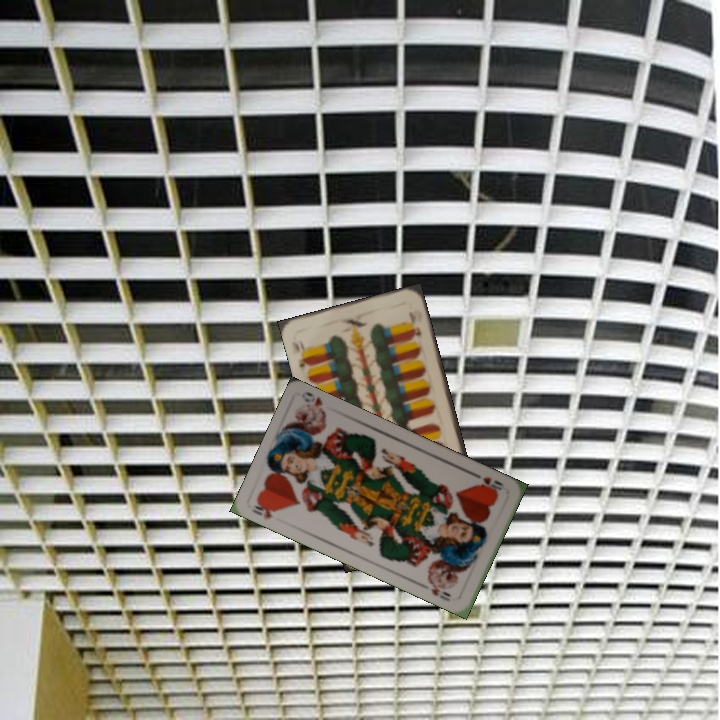E10: (288, 336, 313, 370)
HO: (470, 469, 506, 496), (248, 497, 280, 522)
